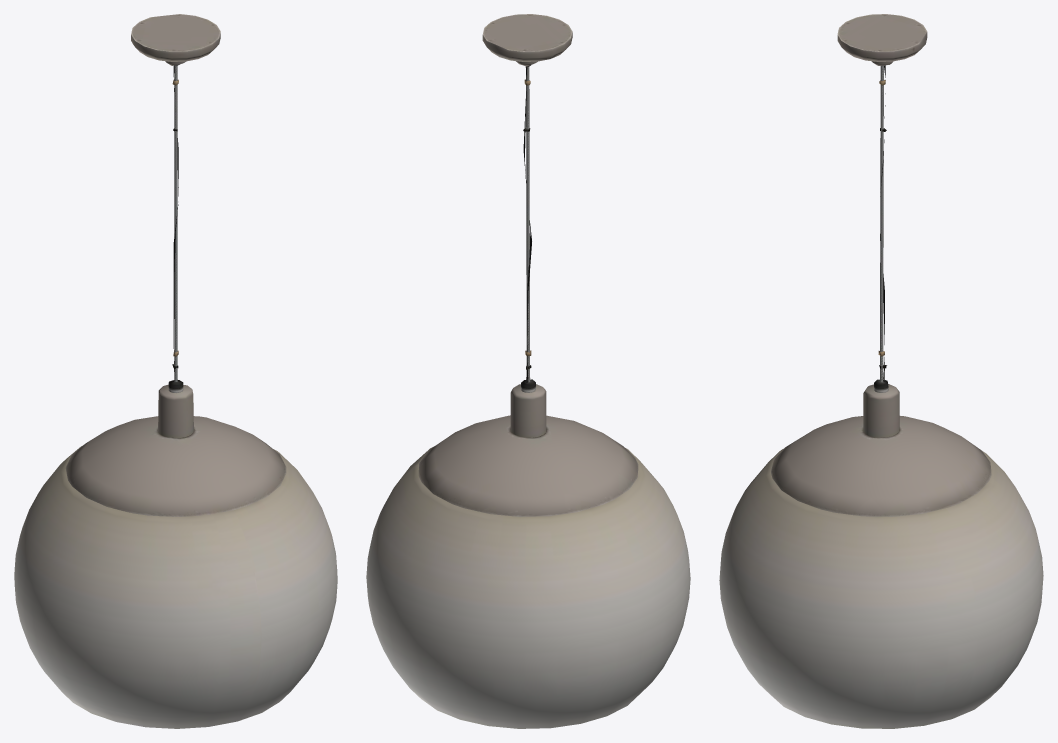
File: ph-modern_ceiling_lamp_01.glb
3 renders of one model, left to right at view 1: azimuth 30°, elevation 25°; view 2: azimuth 150°, elevation 25°; view 3: azimuth 270°, elevation 25°, orthographic.
Visible parts, largest first — view 1: modern_ceiling_lamp_01; view 2: modern_ceiling_lamp_01; view 3: modern_ceiling_lamp_01.
Boxes of the visible parts, x1,y1,x2,y2 form: modern_ceiling_lamp_01: (14,14,337,728); modern_ceiling_lamp_01: (366,14,690,728); modern_ceiling_lamp_01: (719,14,1043,728).
Size of the model in its own units: 0.4316 by 0.9512 by 0.4316.
2 materials, 2 textured.
